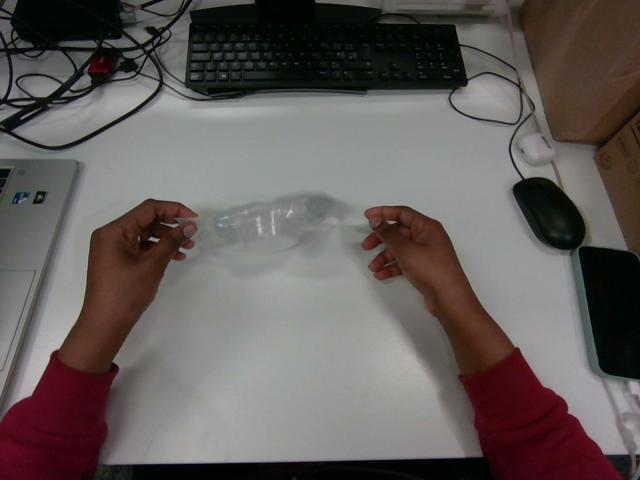gallipot: (177, 194, 342, 252)
